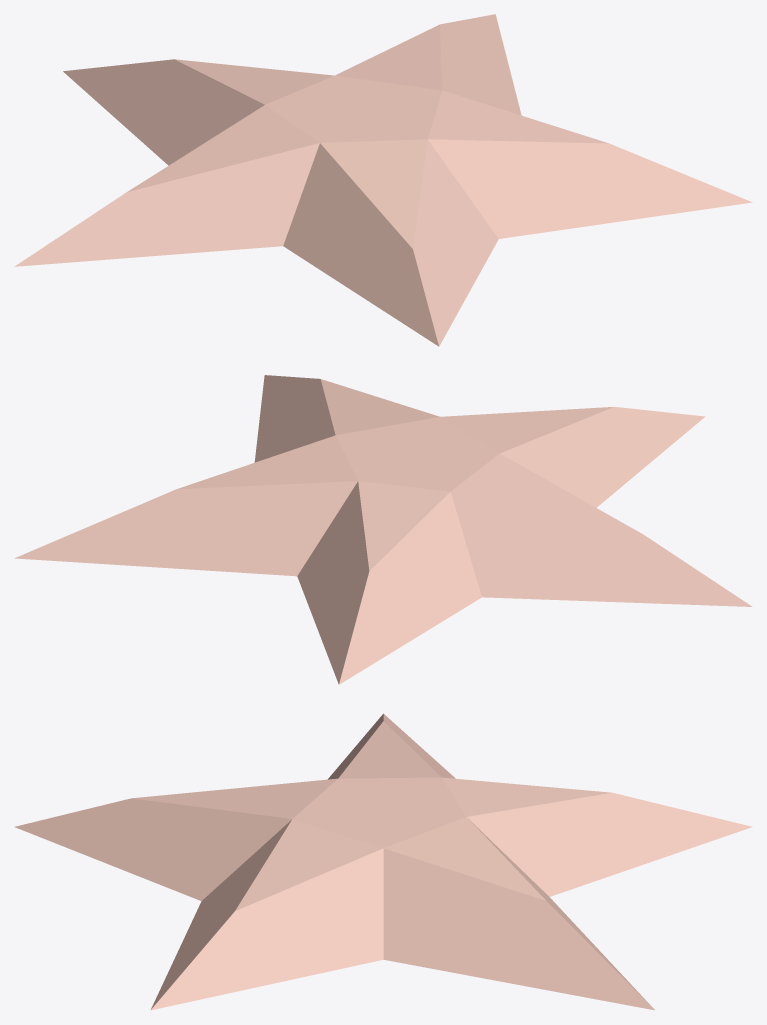
The model's file is Beach_Prop_Starfish_2.glb.
The picture shows the model from 3 angles, top to bottom: view 1: azimuth 30°, elevation 25°; view 2: azimuth 150°, elevation 25°; view 3: azimuth 270°, elevation 25°; orthographic projection. The views are drawn at different scales.
Parts seen in each view (by area): view 1: Beach_Prop_Starfish_2; view 2: Beach_Prop_Starfish_2; view 3: Beach_Prop_Starfish_2.
Part boxes in pixels (<box>): Beach_Prop_Starfish_2: <box>14,14,752,346</box>; Beach_Prop_Starfish_2: <box>14,375,752,684</box>; Beach_Prop_Starfish_2: <box>14,713,752,1010</box>.
Bounding box in the file's own units: 0.2261 × 0.025 × 0.2378.
